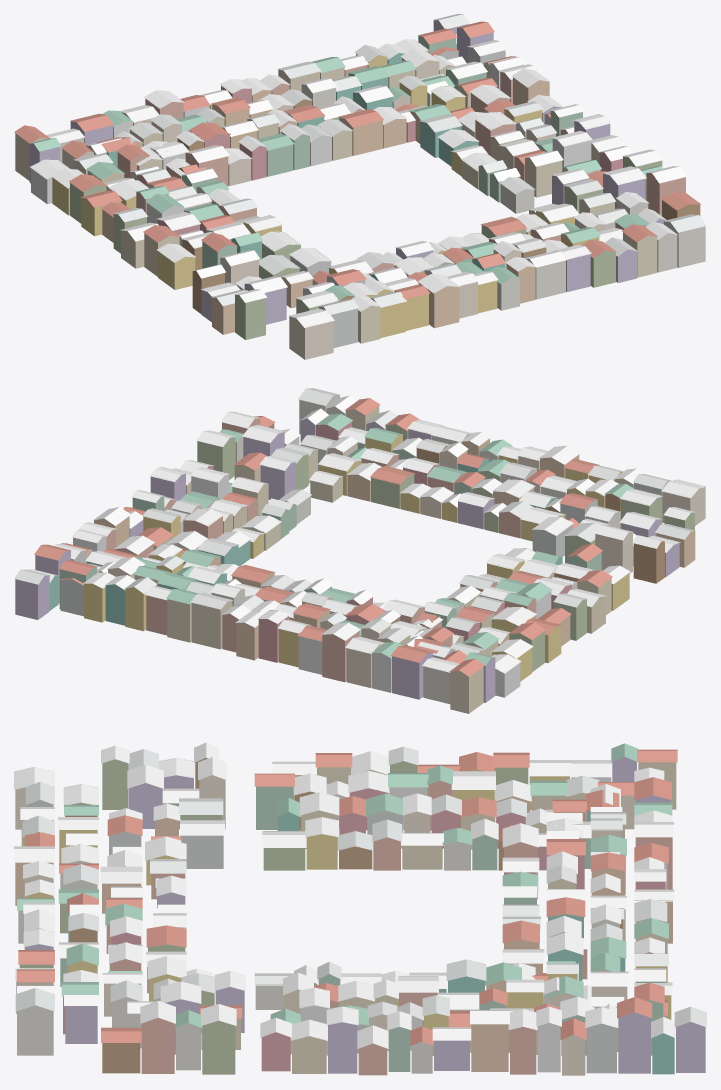
Rendered from district.glb.
3 views of the same model, one above another, from view 1: azimuth 30°, elevation 25°; view 2: azimuth 150°, elevation 25°; view 3: azimuth 270°, elevation 25° (orthographic). The views are drawn at different scales.
Parts seen in each view (by area): view 1: district; view 2: district; view 3: district.
Boxes of the visible parts, x1,y1,x2,y2 form: district: (14, 14, 706, 359); district: (14, 388, 706, 713); district: (14, 742, 706, 1075).
Bounding box in the file's own units: 154 × 15.61 × 158.
